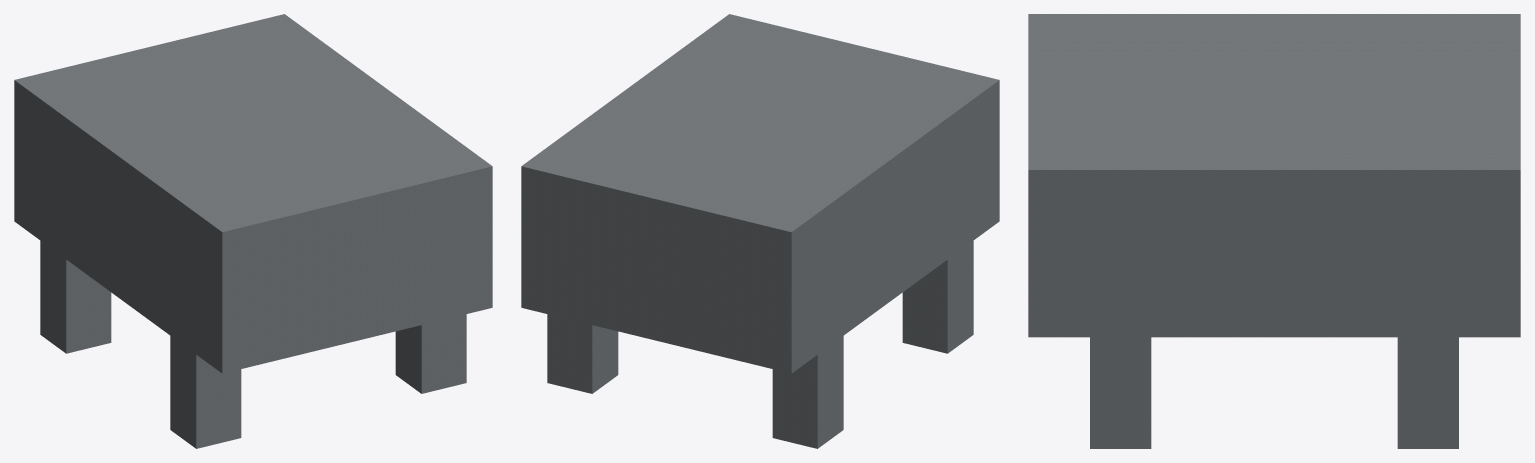
File: 制密机-20220905.glb
The picture shows the model from 3 angles, left to right: view 1: azimuth 30°, elevation 25°; view 2: azimuth 150°, elevation 25°; view 3: azimuth 270°, elevation 25°; orthographic projection. The views are drawn at different scales.
Bounding box in the file's own units: 3 × 2.5 × 4.
1 material, 1 textured.
